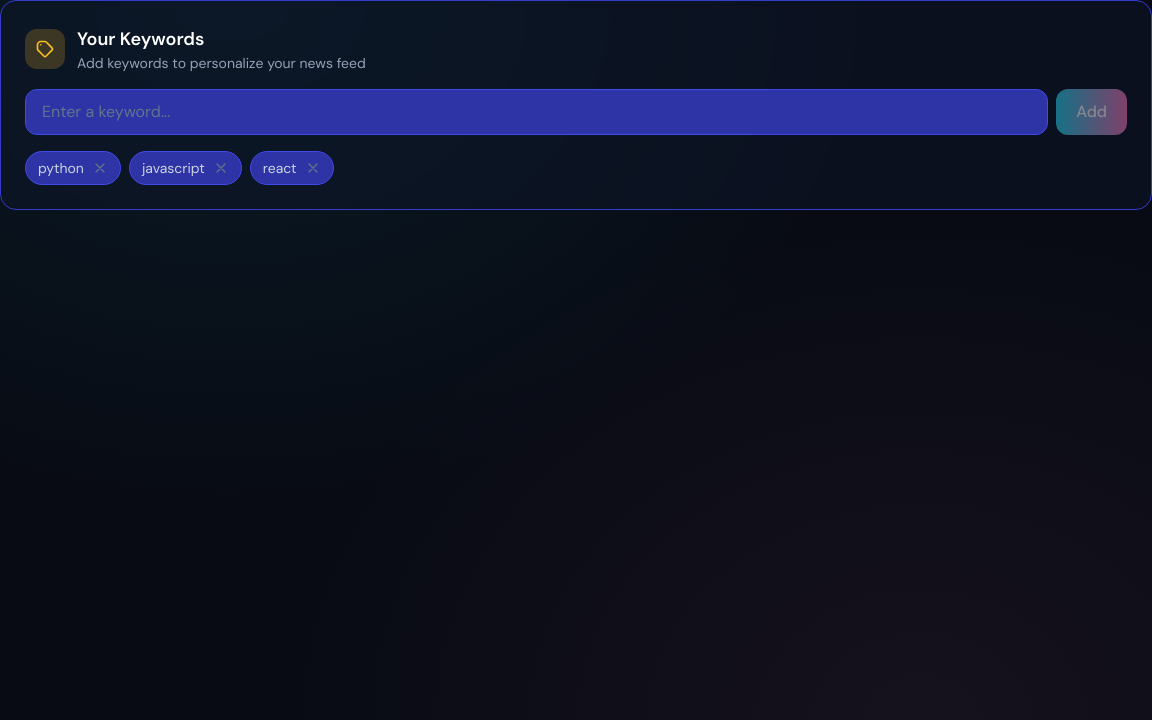
Test: KeywordManager › Deleting Keywords › shows loading spinner on delete button while deleting
The width and height of the screenshot is (1152, 720).
Click the button without text next to "python" at (100, 168), box [92,160,108,176]
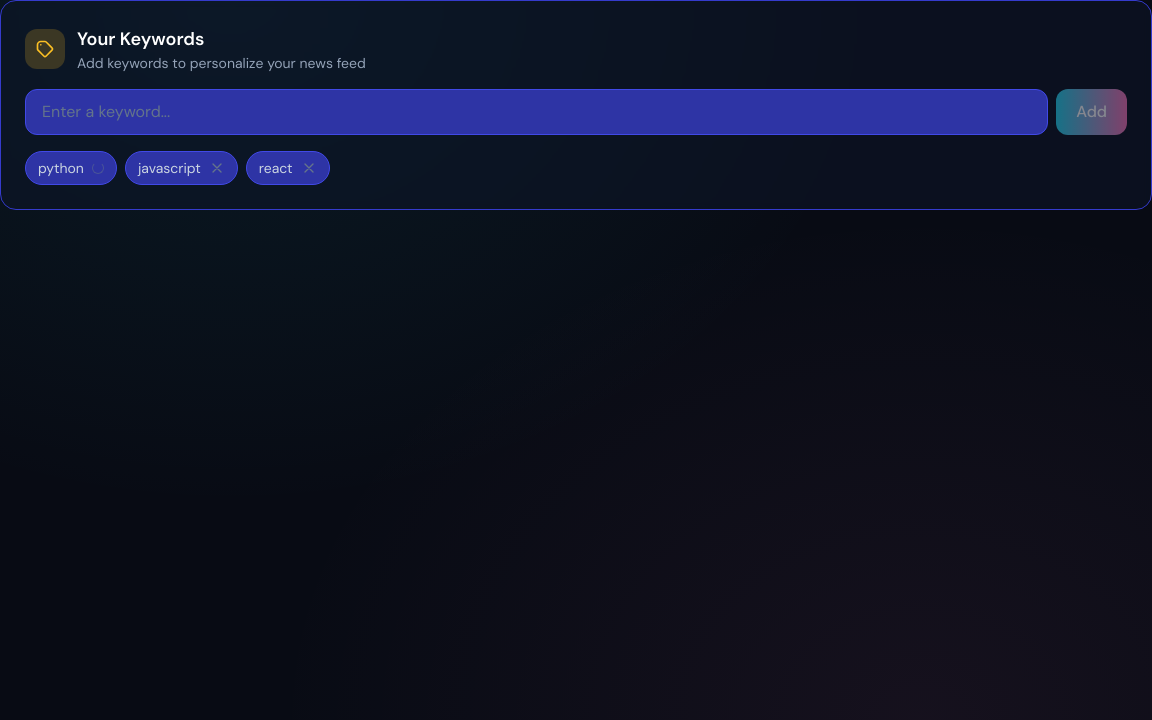
Check: the element with class "animate-spin" is shown, box [92,162,104,174]
